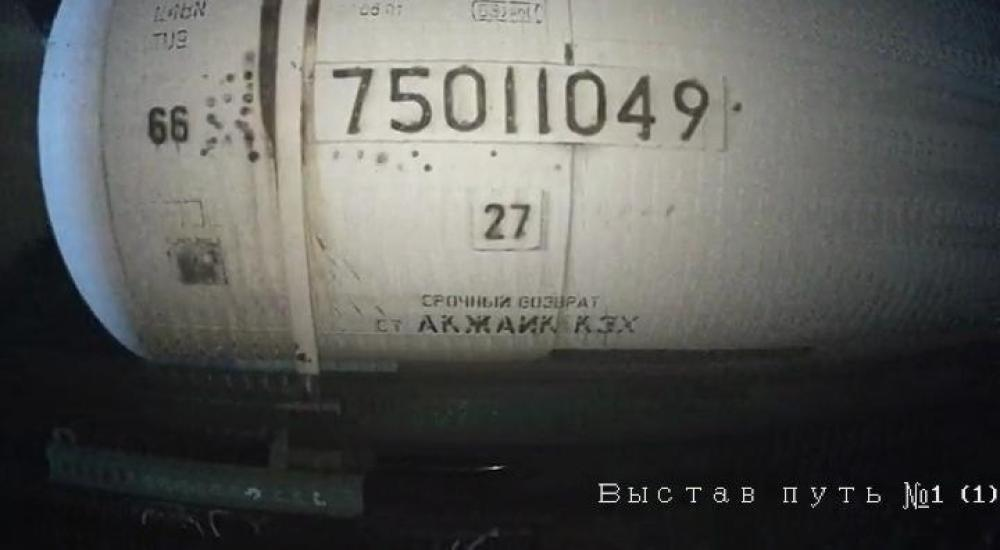Wagon-number: (330, 63, 716, 148)
